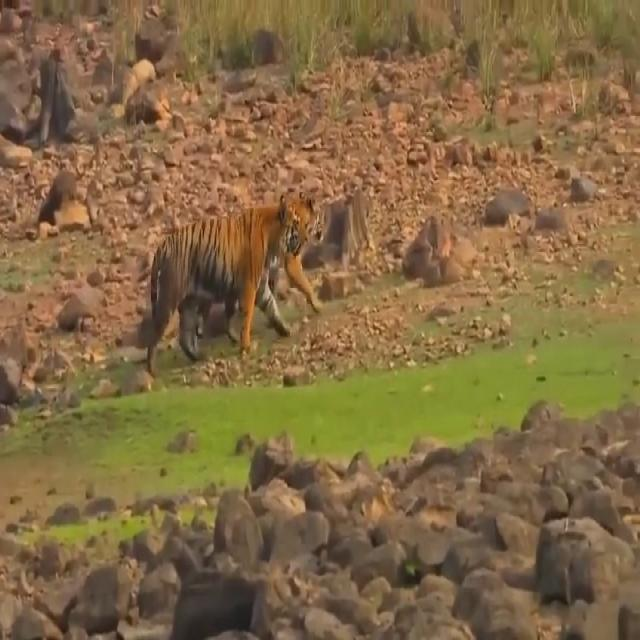tiger: (147, 194, 309, 379)
